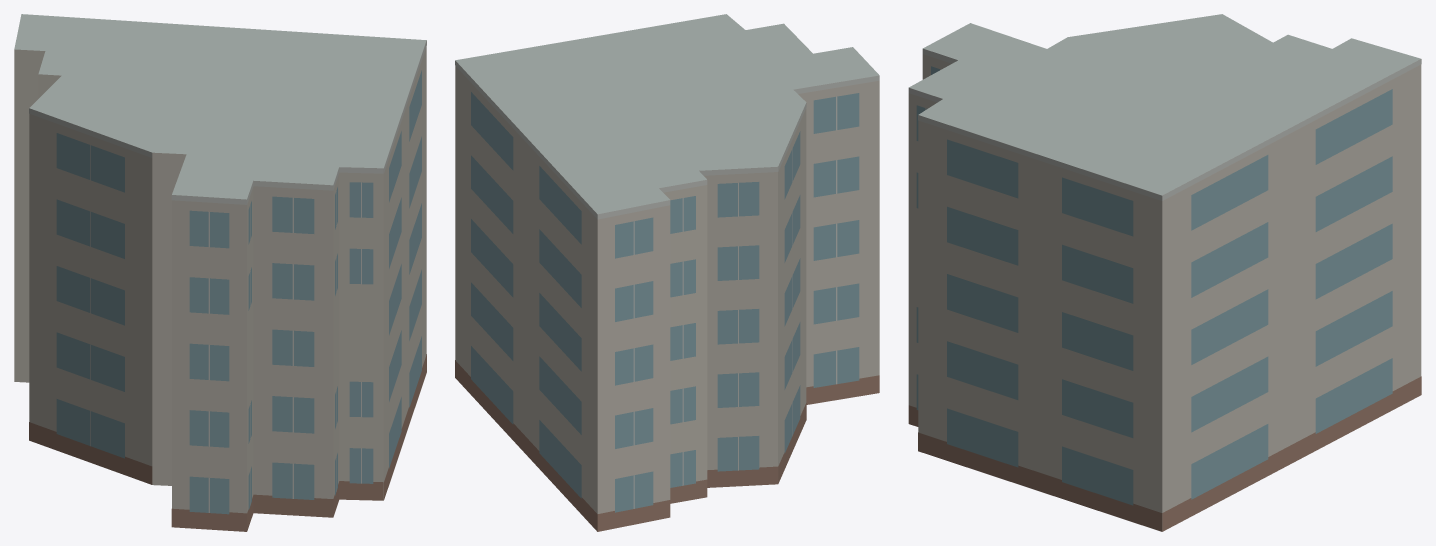
File: survey-upis-32874313.glb
3 views of the same model, side by side, from view 1: azimuth 30°, elevation 25°; view 2: azimuth 150°, elevation 25°; view 3: azimuth 270°, elevation 25° (orthographic). The views are drawn at different scales.
Parts seen in each view (by area): view 1: survey-upis-32874313.tmp; view 2: survey-upis-32874313.tmp; view 3: survey-upis-32874313.tmp.
Boxes of the visible parts, x1,y1,x2,y2 form: survey-upis-32874313.tmp: [14, 14, 426, 531]; survey-upis-32874313.tmp: [455, 14, 879, 531]; survey-upis-32874313.tmp: [908, 14, 1421, 531].
Bounding box in the file's own units: 17.26 × 14.9 × 20.6.
